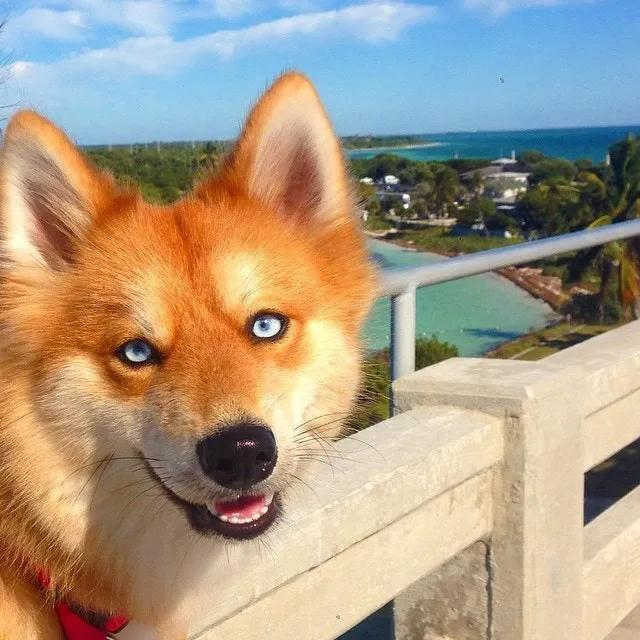eye: (112, 330, 159, 369), (246, 307, 288, 343)
